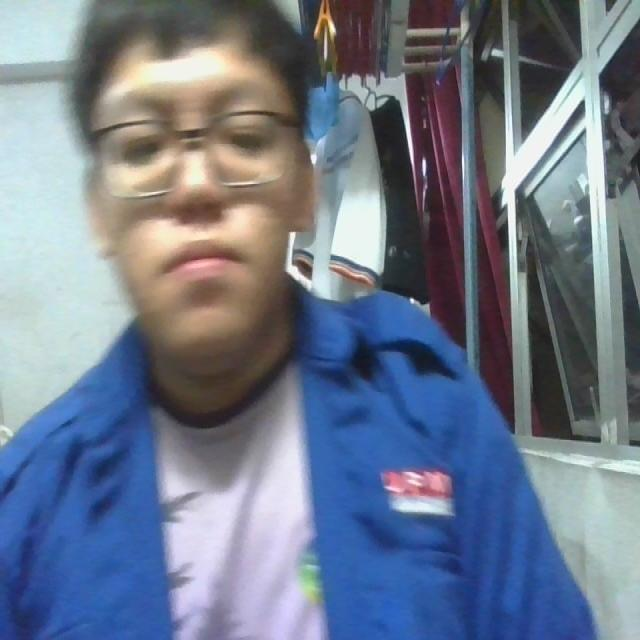person_with_labcoat: (0, 0, 593, 639), (293, 292, 594, 639)
